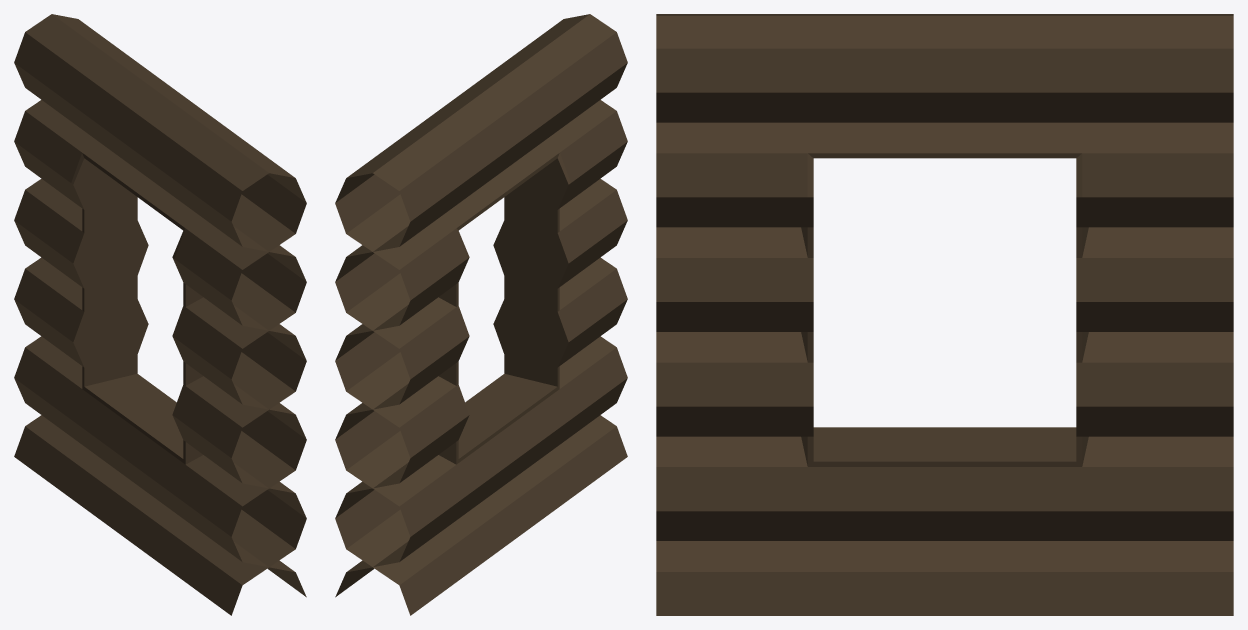
Rendered from Cabin_Big_Window.fbx.
3 renders of one model, left to right at view 1: azimuth 30°, elevation 25°; view 2: azimuth 150°, elevation 25°; view 3: azimuth 270°, elevation 25°, orthographic. The views are drawn at different scales.
Parts seen in each view (by area): view 1: Cabin_BigWindow; view 2: Cabin_BigWindow; view 3: Cabin_BigWindow.
Part boxes in pixels (x1,y1,x2,y2): Cabin_BigWindow: (14, 14, 306, 615); Cabin_BigWindow: (335, 14, 627, 615); Cabin_BigWindow: (656, 14, 1233, 615).
Size of the model in its own units: 0.2 by 1.1 by 1.
